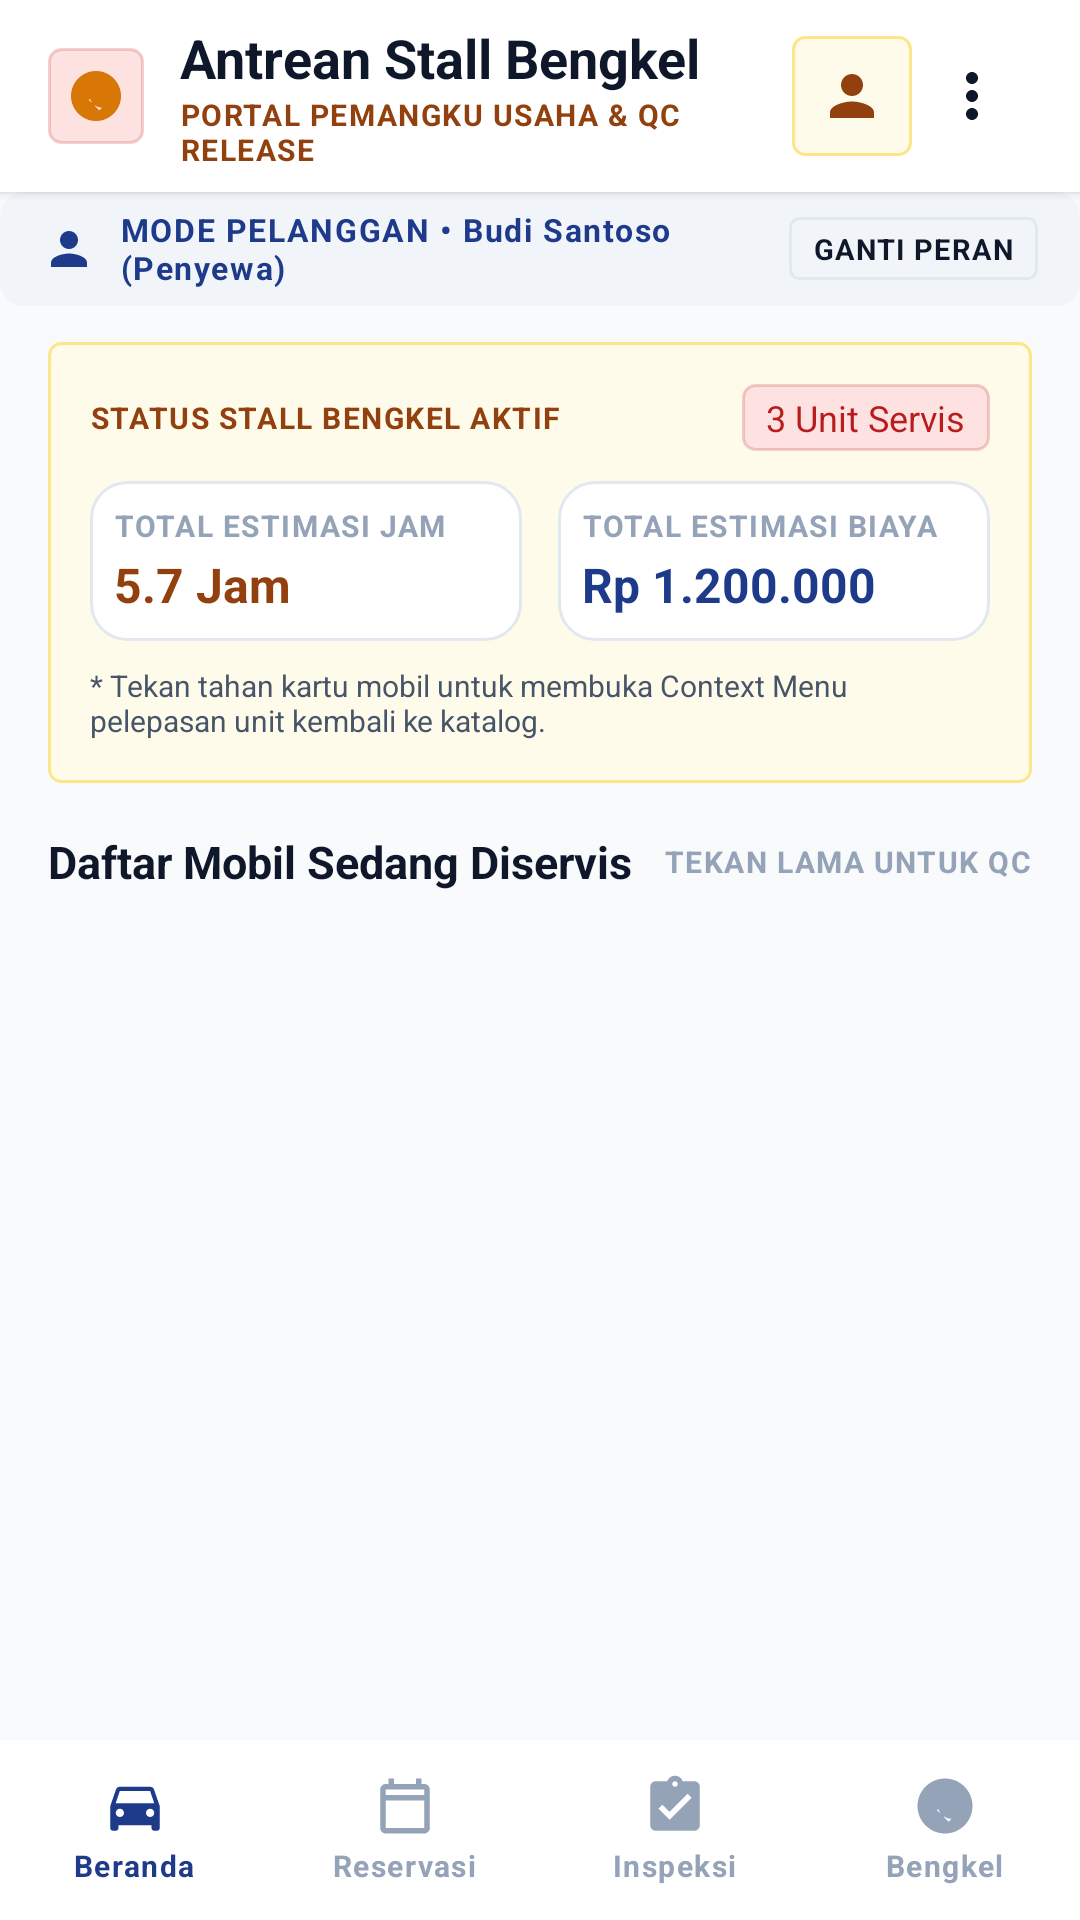

Point at icon controls on the screen. Image size 1080px x 1920px, points as (x,y).
assignment turned in: (675,1803)
calendar month: (405,1806)
directions car: (135,1808)
more vert: (972,96)
person: (852,96), (69,249)
